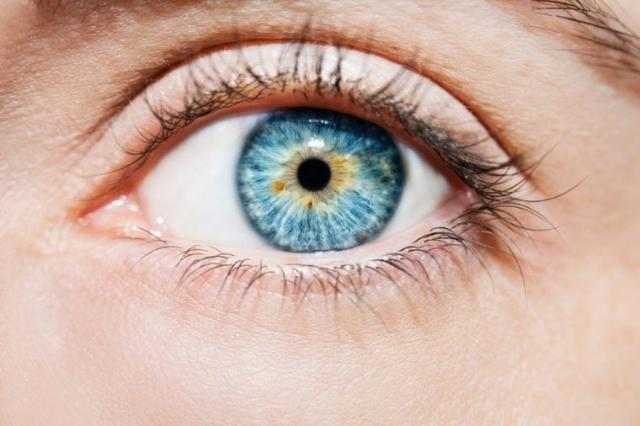eye: (238, 94, 412, 251)
